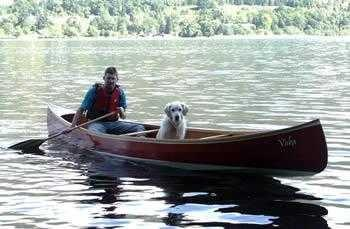kayak: (48, 107, 325, 171)
